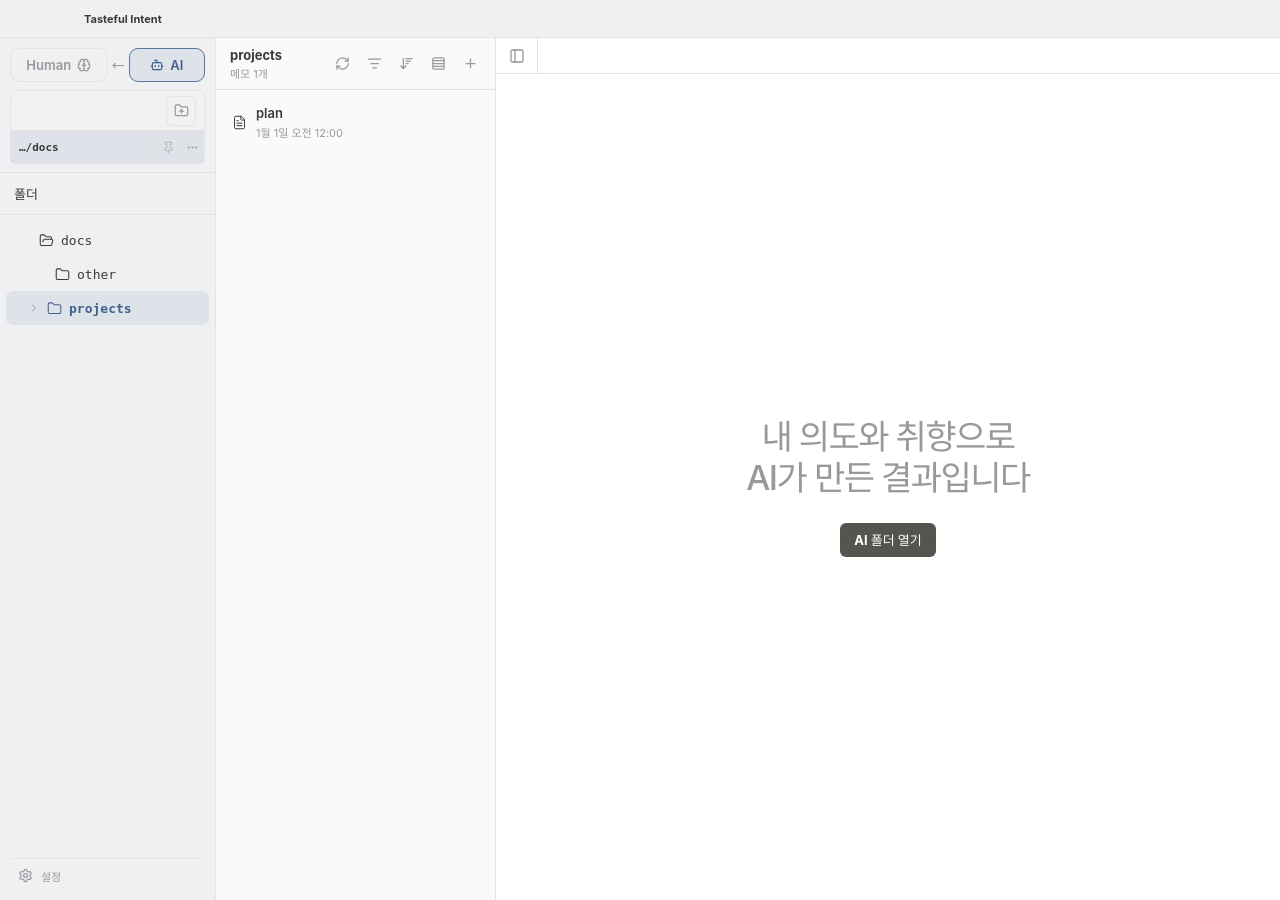
Scenario: AI git status filter › cycles All, Modified+New, Modified, and New, rereading status only when leaving All
expect the list named "Markdown 문서" is shown: met, box left=222, top=98, right=489, bottom=147
What coordinates should you click on to do the following:
click the button named "현재 전체 문서 · 클릭하면 마지막 commit 이후 수정·새 문서"
I would click on:
 (374, 64)
Its box is left=359, top=48, right=389, bottom=78.
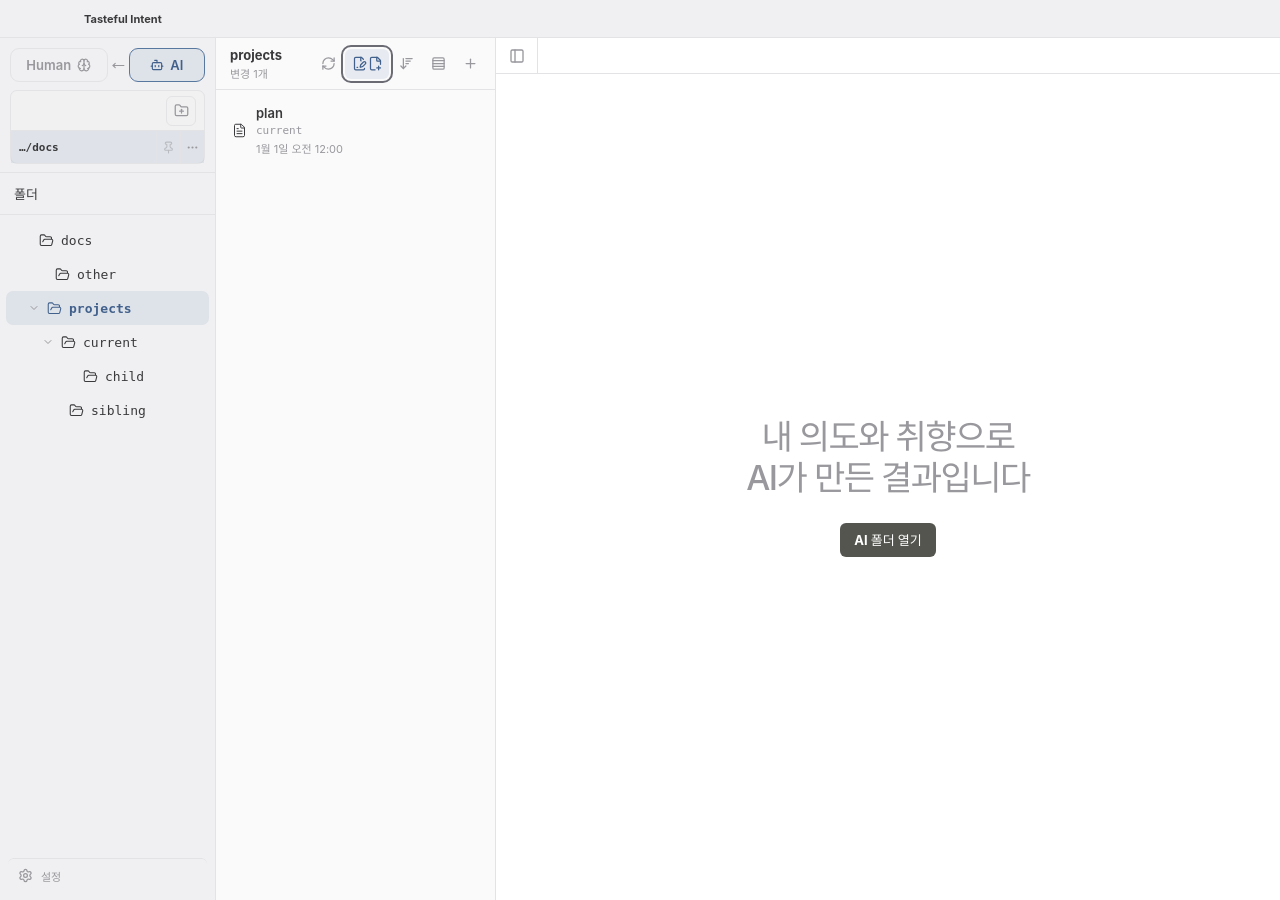
expect the text "변경 1개" is shown: met, box left=230, top=66, right=268, bottom=80
expect the text "current" below "변경 1개" is shown: met, box left=256, top=124, right=302, bottom=137
What coordinates should you click on to do the following:
click the button named "현재 수정·새 문서 · 클릭하면 수정된 문서만"
I would click on:
 (367, 64)
Its box is left=345, top=48, right=389, bottom=78.
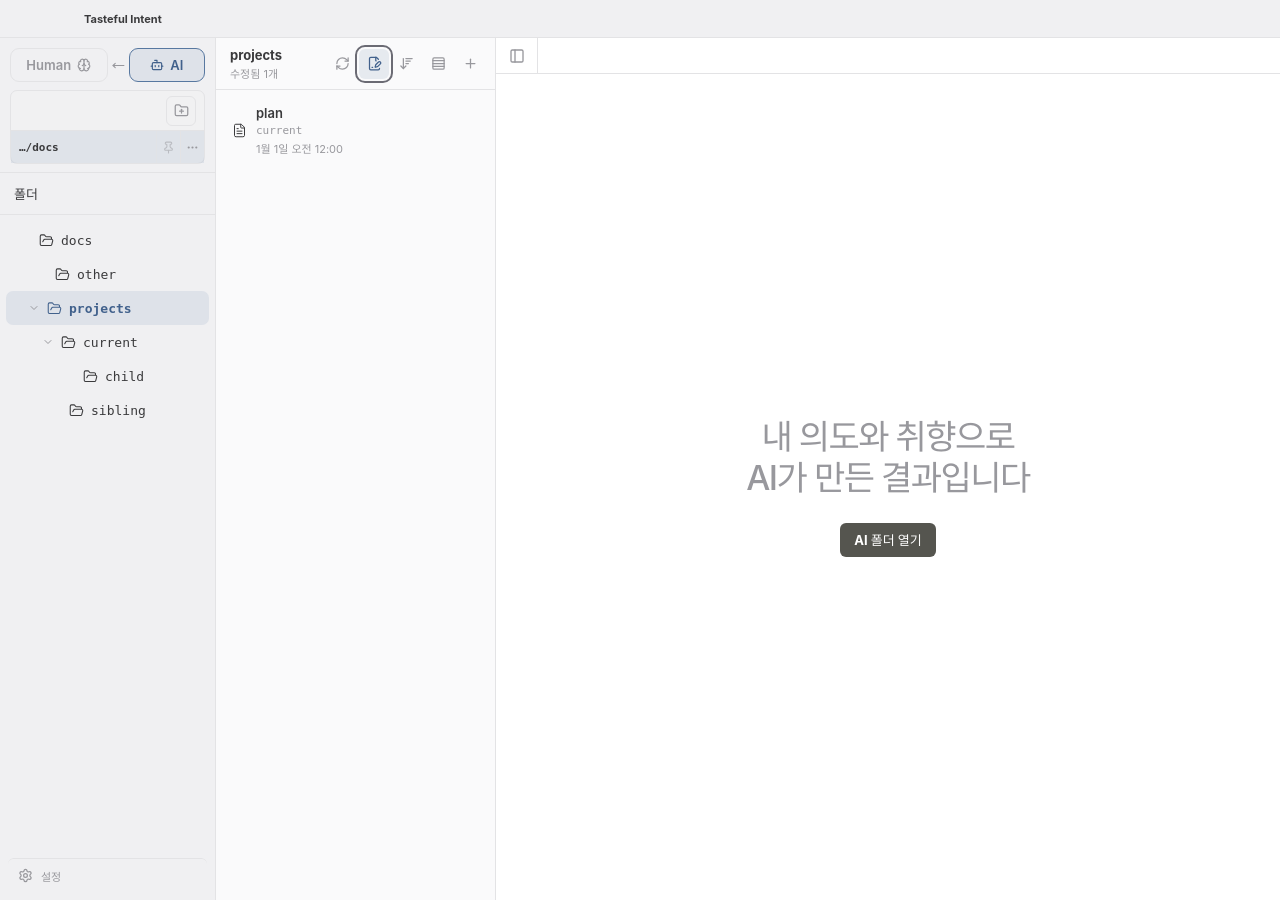
expect the text "수정됨 1개" is shown: met, box left=230, top=64, right=282, bottom=80
What coordinates should you click on to do the following:
click the button named "현재 수정된 문서 · 클릭하면 새 문서"
I would click on:
 (374, 64)
Its box is left=359, top=48, right=389, bottom=78.
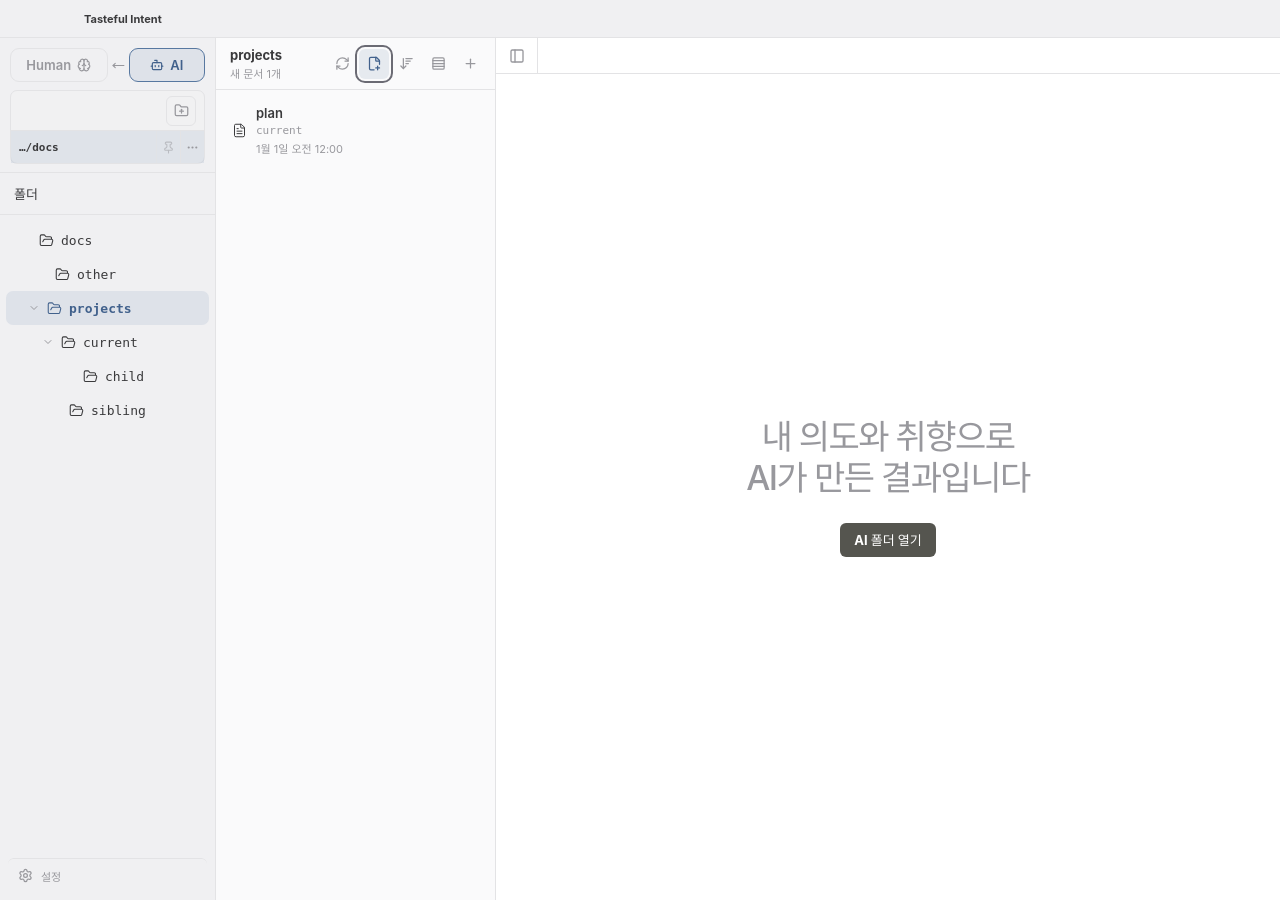
expect the button named "현재 마지막 commit 이후 새 문서 · 클릭하면 전체 문서" is shown: met
expect the text "새 문서 1개" is shown: met, box left=230, top=64, right=282, bottom=80
What coordinates should you click on to do the following:
click the button named "현재 마지막 commit 이후 새 문서 · 클릭하면 전체 문서"
I would click on:
 (374, 64)
Its box is left=359, top=48, right=389, bottom=78.
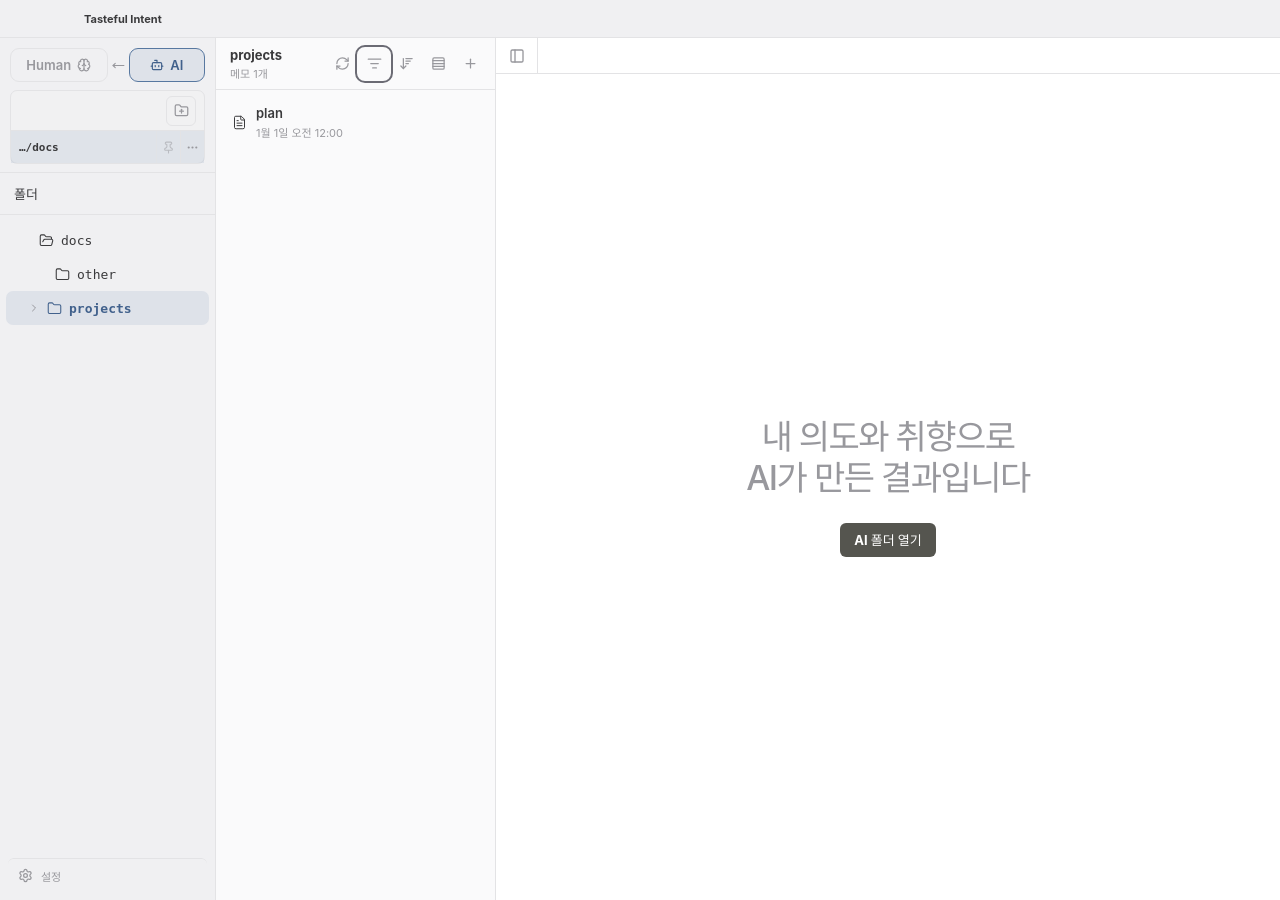
expect the button named "현재 전체 문서 · 클릭하면 마지막 commit 이후 수정·새 문서" is shown: met, box left=359, top=48, right=389, bottom=78
expect the text with class "document-parent-path" is gone: met
